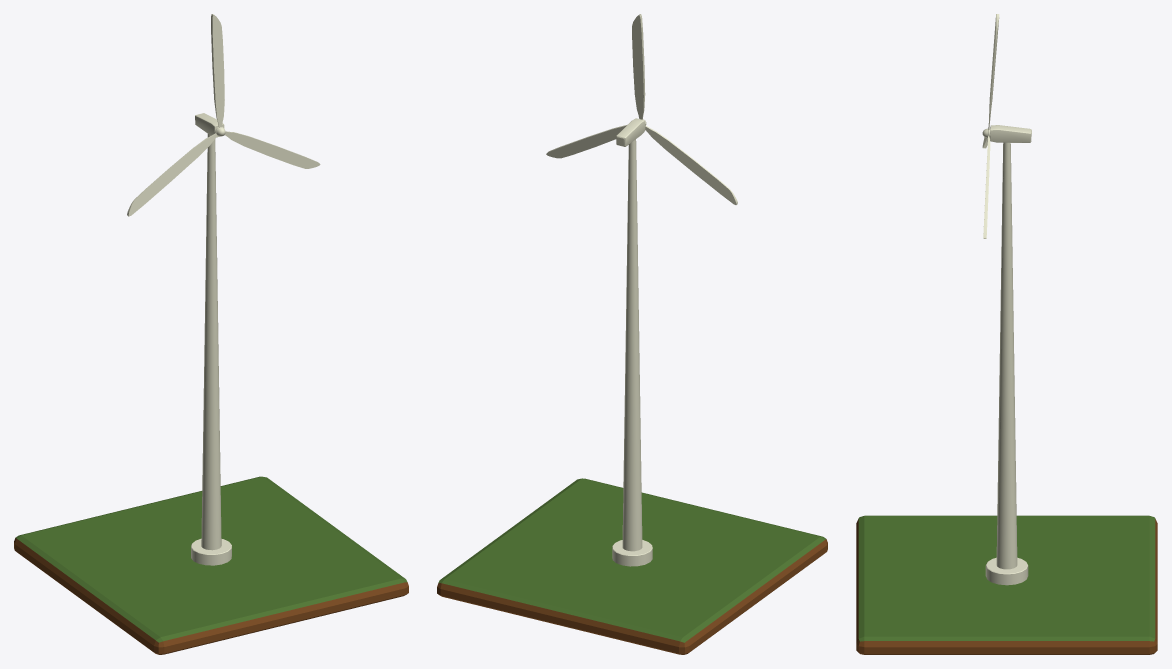
File: Wind_Turbine_Lg.fbx
3 renders of one model, left to right at view 1: azimuth 30°, elevation 25°; view 2: azimuth 150°, elevation 25°; view 3: azimuth 270°, elevation 25°, orthographic. The views are drawn at different scales.
Parts seen in each view (by area): view 1: WindTurbine_Lg, Tower.001, Blades; view 2: WindTurbine_Lg, Tower.001, Blades; view 3: WindTurbine_Lg, Tower.001, Blades, Nacelle.
Part boxes in pixels (x1=…): WindTurbine_Lg: x1=14, y1=476, x2=408, y2=654; Tower.001: x1=191, y1=134, x2=231, y2=565; Blades: x1=127, y1=14, x2=320, y2=216; WindTurbine_Lg: x1=437, y1=478, x2=827, y2=654; Tower.001: x1=612, y1=139, x2=652, y2=566; Blades: x1=546, y1=14, x2=737, y2=204; WindTurbine_Lg: x1=856, y1=515, x2=1157, y2=654; Tower.001: x1=985, y1=142, x2=1028, y2=585; Blades: x1=982, y1=14, x2=999, y2=238; Nacelle: x1=990, y1=125, x2=1031, y2=142.
Bounding box in the file's own units: 156 × 329 × 156.
